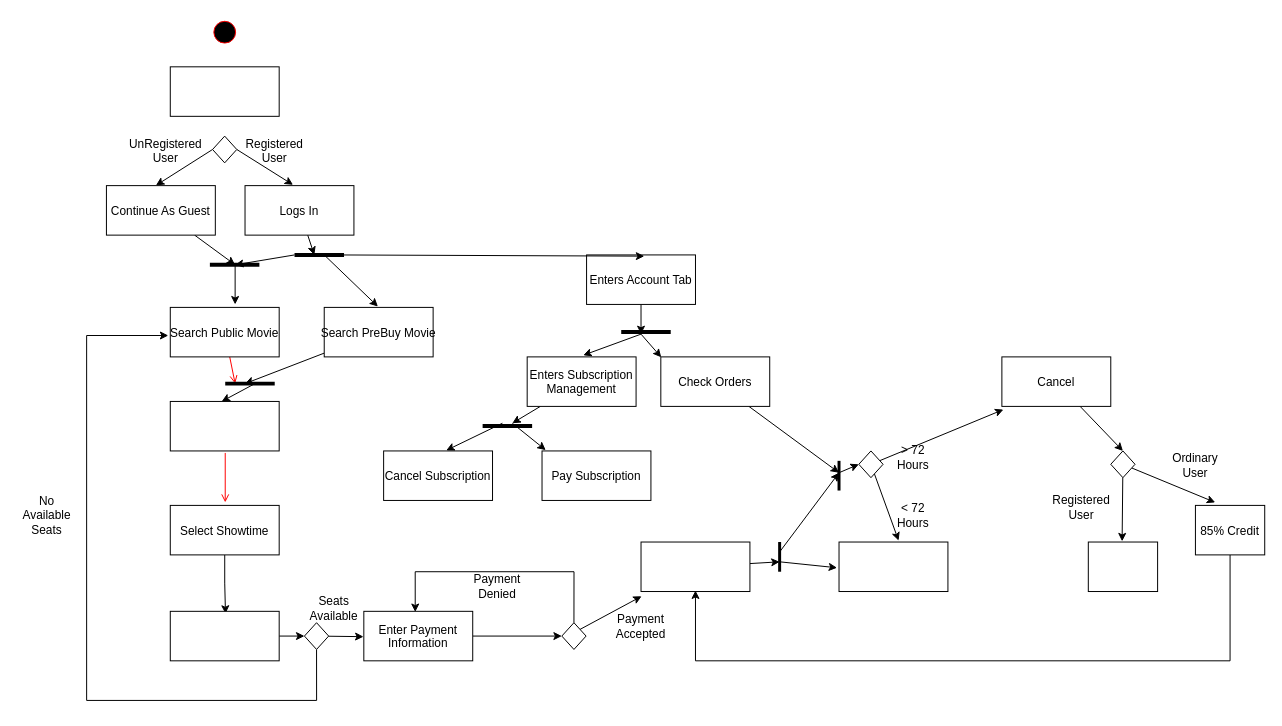
This 1282x726 diagram has some shape labels left out. Each missing label, with the centre of its shape:
"Email Receipt" goes at pixel 695 566.
"Full Refund" goes at pixel 1122 566.
"Ready to Book Tickets" goes at pixel 224 91.
"Select Seats" goes at pixel 224 635.
"Select Theatre" goes at pixel 224 425.
"Watch Movie" goes at pixel 893 566.
